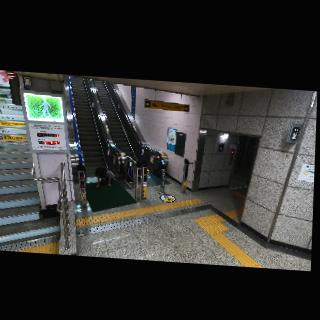anomaly: (92, 166, 116, 189)
